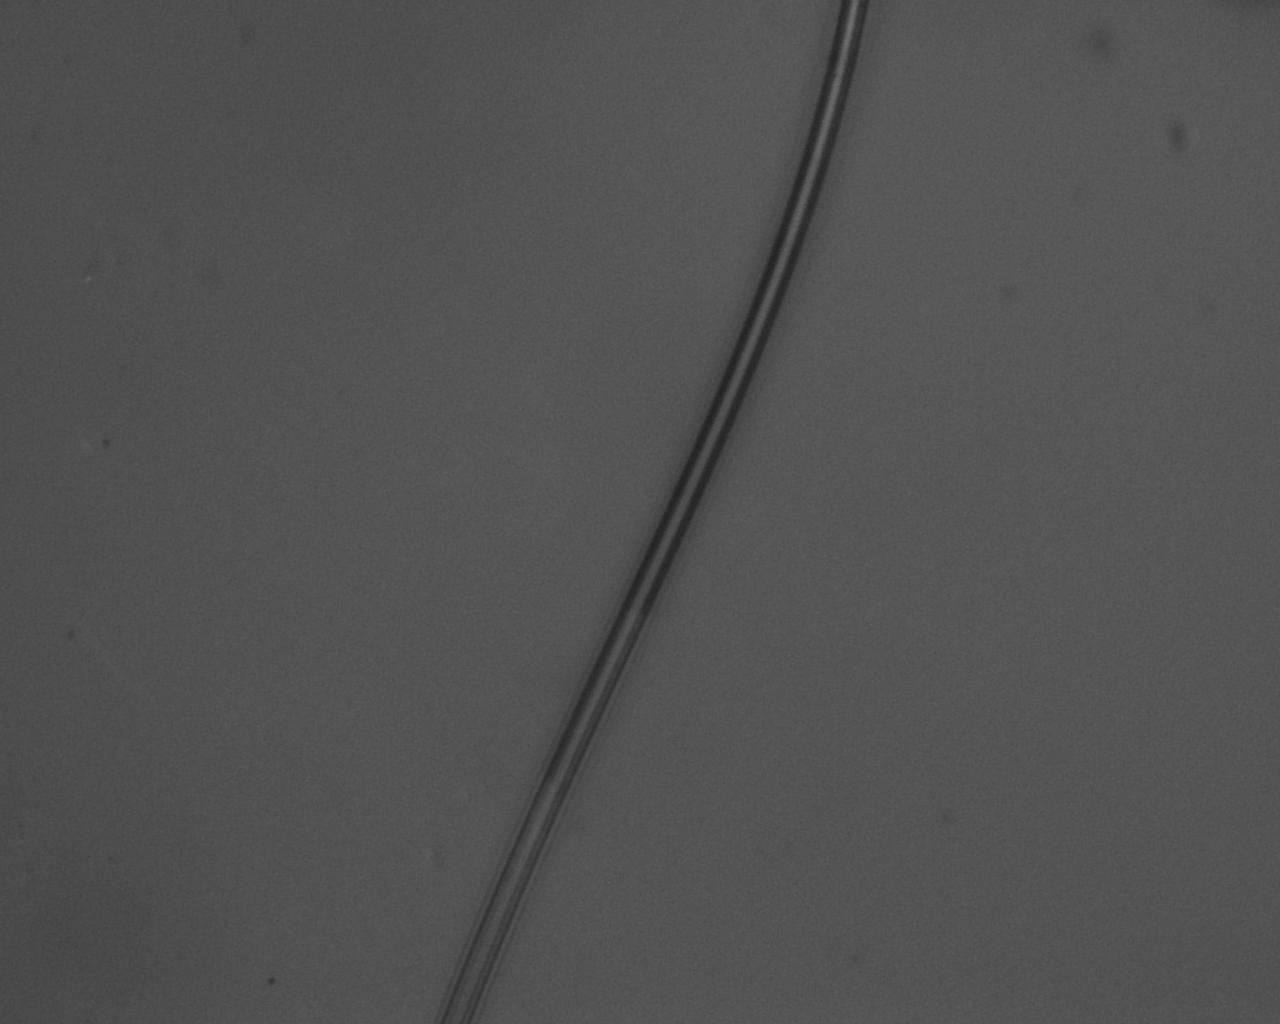fiber: (238, 0, 680, 542), (874, 553, 1280, 945), (350, 542, 497, 1024)
